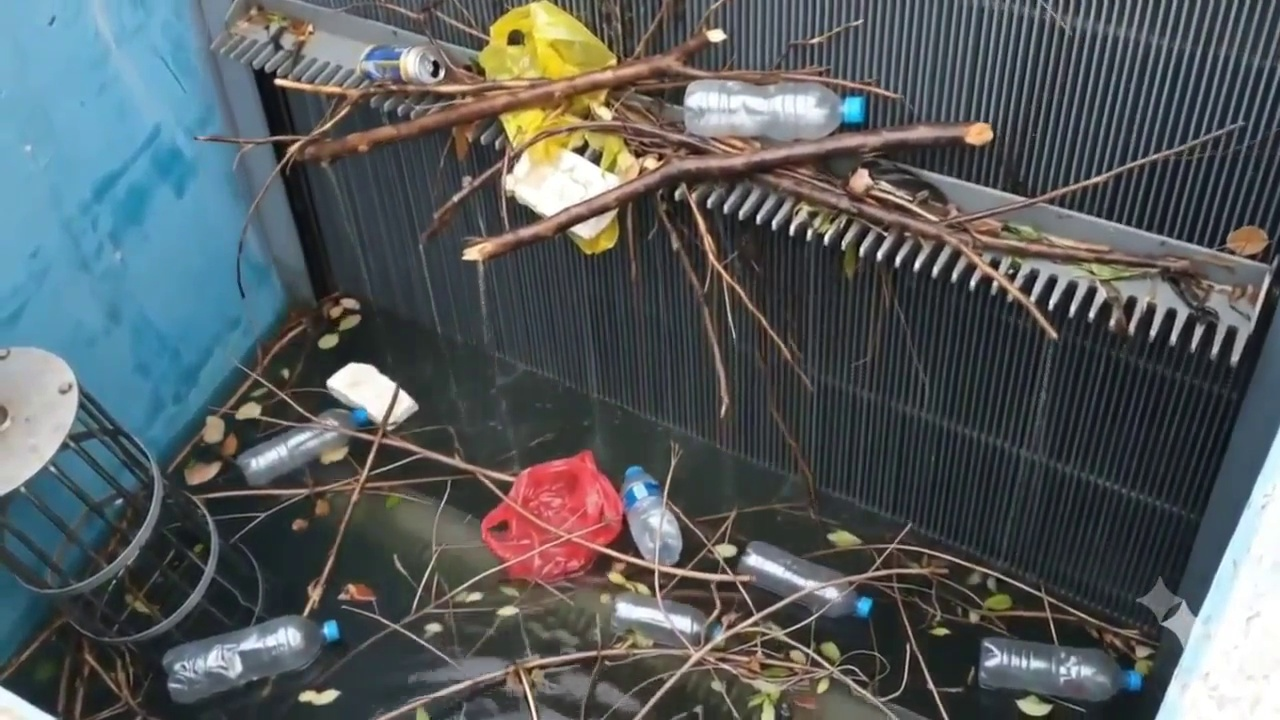debris: (277, 29, 993, 261), (482, 451, 683, 582), (235, 364, 418, 486), (164, 616, 339, 702), (783, 176, 976, 250), (736, 542, 872, 618), (978, 639, 1142, 701), (611, 594, 723, 647)
